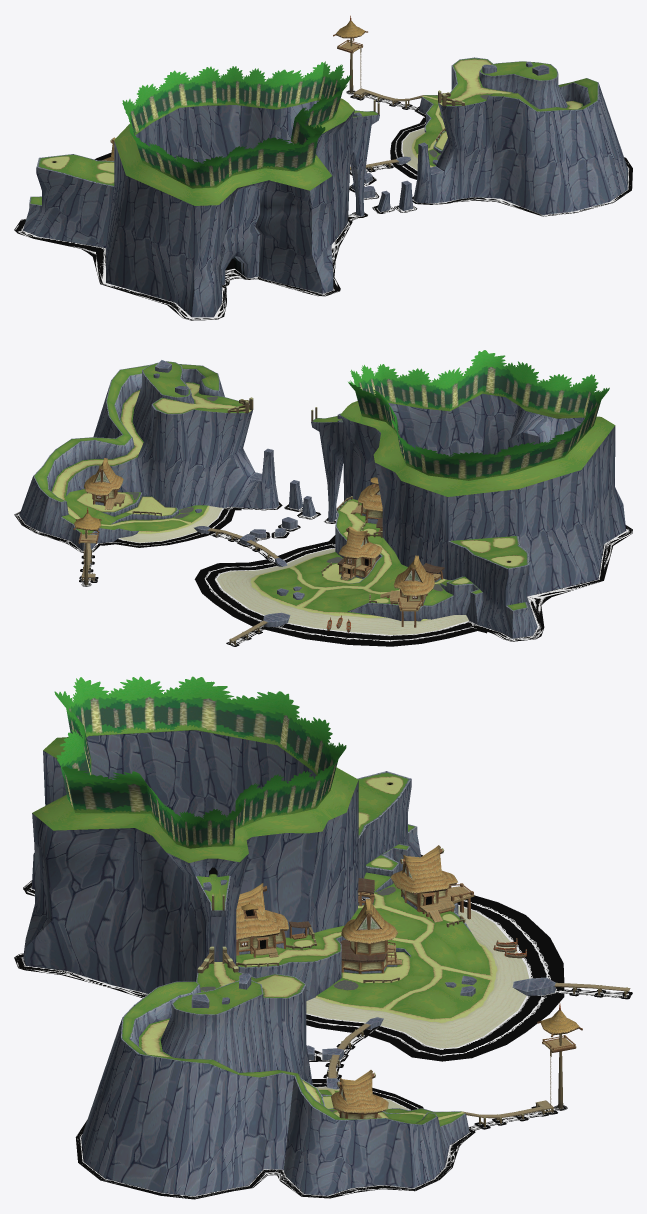
The model's file is ZeldaWW_OutsetIsland.fbx.
3 renders of one model, top to bottom at view 1: azimuth 30°, elevation 25°; view 2: azimuth 150°, elevation 25°; view 3: azimuth 270°, elevation 25°, orthographic. The views are drawn at different scales.
Parts seen in each view (by area): view 1: n5b5, n0b1, n6b6, n4b4, n4b5, n1b2, n3b2, n2b4, n1b1; view 2: n5b5, n6b6, n0b1, n4b4, n2b4, n1b1, n3b2, n3b3, n4b5, n1b2, n2b3, n7b7; view 3: n5b5, n6b6, n0b1, n4b4, n1b1, n2b4, n3b2, n2b3, n1b2, n3b3, n4b5.
Boxes of the visible parts, <box> form: n5b5: <box>23,66,627,317</box>; n0b1: <box>122,61,351,188</box>; n6b6: <box>31,59,597,205</box>; n4b4: <box>23,57,598,277</box>; n4b5: <box>14,90,630,320</box>; n1b2: <box>15,91,632,319</box>; n3b2: <box>339,38,464,170</box>; n2b4: <box>94,117,425,179</box>; n1b1: <box>102,15,365,160</box>; n5b5: <box>19,377,626,638</box>; n6b6: <box>35,362,615,634</box>; n0b1: <box>348,350,609,480</box>; n4b4: <box>33,360,532,638</box>; n2b4: <box>97,507,487,646</box>; n1b1: <box>74,458,434,596</box>; n3b2: <box>80,397,444,645</box>; n3b3: <box>114,508,472,639</box>; n4b5: <box>14,506,632,645</box>; n1b2: <box>15,502,632,646</box>; n2b3: <box>73,468,443,632</box>; n7b7: <box>125,396,446,591</box>; n5b5: <box>23,730,444,1195</box>; n6b6: <box>32,729,529,1125</box>; n0b1: <box>54,676,346,848</box>; n4b4: <box>121,771,555,1165</box>; n1b1: <box>236,845,579,1114</box>; n2b4: <box>306,895,564,1108</box>; n3b2: <box>197,878,630,1127</box>; n2b3: <box>236,848,582,1119</box>; n1b2: <box>16,856,632,1199</box>; n3b3: <box>306,902,544,1110</box>; n4b5: <box>14,854,629,1198</box>.
Size of what is drawn, in the model's own units: 5625 by 1579 by 4187.
16 materials, 16 textured.
